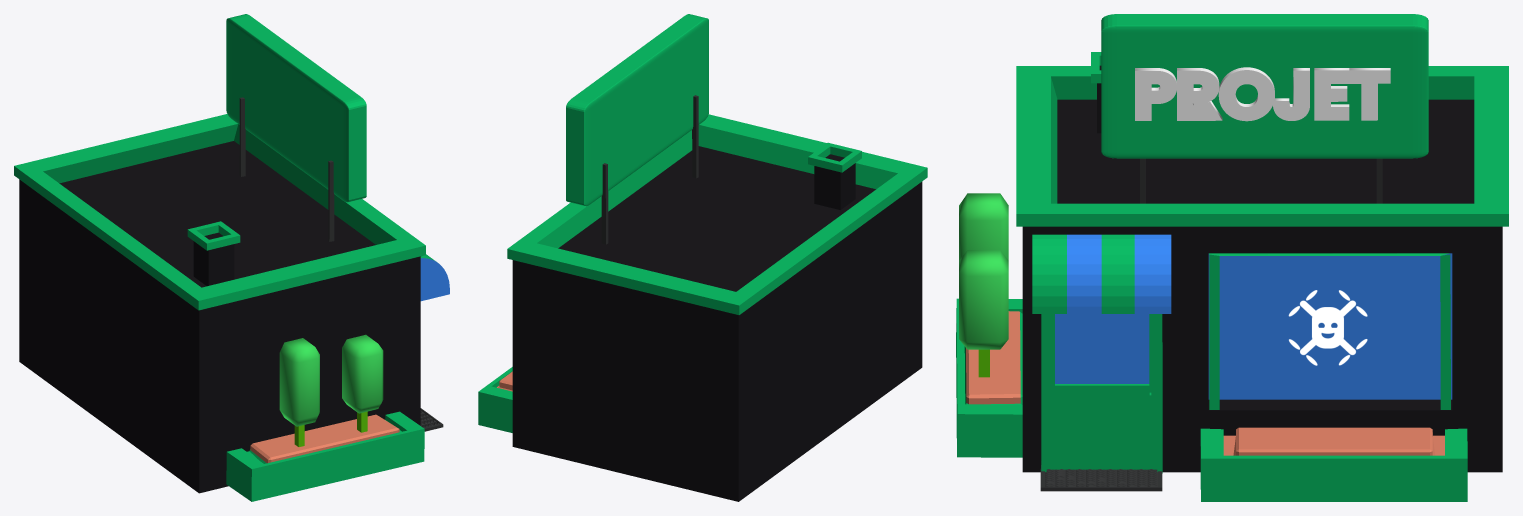
File: projet.gltf
3 views of the same model, side by side, from view 1: azimuth 30°, elevation 25°; view 2: azimuth 150°, elevation 25°; view 3: azimuth 270°, elevation 25° (orthographic). The views are drawn at different scales.
Parts seen in each view (by area): view 1: Cube, Cube.003, Cube.002, Cube.015, Cube.014, Cube.013, Cube.016, Cube.011, Cube.012; view 2: Cube, Cube.003, Cube.013, Cube.001, Cube.012, Cube.011; view 3: Cube, Cube.003, Cube.008, Cube.001, Cube.016, Texte, Cube.002, Cube.014, Cube.015, Cube.007, Drone-3D, Cube.013.
Boxes of the visible parts, x1=… form: Cube: x1=14, y1=114, x2=425, y2=493; Cube.003: x1=226, y1=14, x2=366, y2=202; Cube.002: x1=226, y1=411, x2=424, y2=501; Cube.015: x1=279, y1=338, x2=319, y2=446; Cube.014: x1=342, y1=334, x2=383, y2=432; Cube.013: x1=187, y1=221, x2=240, y2=286; Cube.016: x1=420, y1=254, x2=449, y2=301; Cube.011: x1=328, y1=160, x2=334, y2=241; Cube.012: x1=239, y1=97, x2=245, y2=176; Cube: x1=507, y1=114, x2=927, y2=501; Cube.003: x1=566, y1=14, x2=708, y2=206; Cube.013: x1=808, y1=142, x2=861, y2=209; Cube.001: x1=478, y1=367, x2=512, y2=432; Cube.012: x1=601, y1=163, x2=608, y2=244; Cube.011: x1=692, y1=95, x2=698, y2=178; Cube: x1=1016, y1=66, x2=1508, y2=472; Cube.003: x1=1101, y1=14, x2=1428, y2=158; Cube.008: x1=1041, y1=253, x2=1450, y2=473; Cube.001: x1=1200, y1=427, x2=1467, y2=501; Cube.016: x1=1032, y1=234, x2=1171, y2=313; Texte: x1=1135, y1=67, x2=1390, y2=121; Cube.002: x1=956, y1=298, x2=1022, y2=457; Cube.014: x1=959, y1=250, x2=1008, y2=377; Cube.015: x1=959, y1=193, x2=1008, y2=260; Cube.007: x1=1040, y1=465, x2=1162, y2=491; Drone-3D: x1=1288, y1=290, x2=1367, y2=365; Cube.013: x1=1091, y1=52, x2=1101, y2=133.
Bounding box in the file's own units: 2.54 × 2.88 × 3.35.
9 materials, 1 textured.
